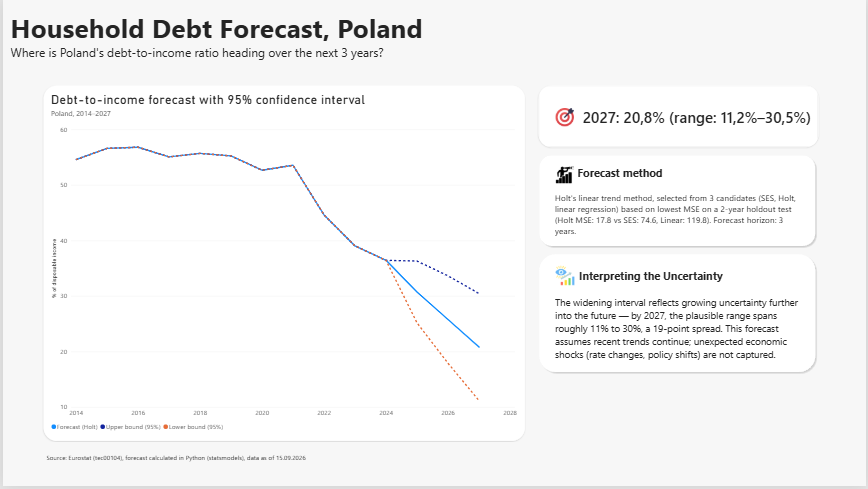

The page's visual inventory and layout, read from the dashboard file:
{"tool":"powerbi","page":{"name":"Forecast","canvas":[1920,1080],"ordinal":3},"visuals":[{"type":"lineChart","title":"Debt-to-income forecast with 95% confidence interval","fields":{"Category":["pl_forecast_ci.year"],"Y":["Sum(pl_forecast_ci.value)","Sum(pl_forecast_ci.upper)","Sum(pl_forecast_ci.lower)"]},"box":[88.3,190,1070,790],"z":0},{"type":"textbox","box":[17,20,1335,117],"z":1000},{"type":"shape","box":[1187.2,492.2,623.3,211.7],"z":2000},{"type":"textbox","box":[1278.1,518.8,442.5,61.2],"z":3000},{"type":"image","box":[1225.6,518.8,43,43],"z":4000},{"type":"textbox","box":[1225.6,580.6,550,110],"z":5000},{"type":"cardVisual","fields":{"Data":["pl_forecast_ci.Forecast_2027_Display"]},"box":[1190,190,622.5,285],"z":6000},{"type":"textbox","box":[95,1007.5,590,27.5],"z":7000},{"type":"shape","box":[1188.3,715,623.3,271.7],"z":8000},{"type":"image","box":[1226.3,743.4,44,44],"z":9000},{"type":"textbox","box":[1280,751.1,532.2,57.8],"z":10000},{"type":"textbox","box":[1226.7,808.9,550,163.3],"z":11000},{"type":"image","box":[1227.8,311.1,43.1,40.8],"z":12000}]}

Visuals, with their boxes in screenshot pixels (x1, y1, x2, y2), scaled from the page's 1920x1080 canvas onto the 868x489 screenshot:
"Debt-to-income forecast with 95% confidence interval" lineChart: [40, 86, 524, 444]
textbox: [8, 9, 611, 62]
shape: [537, 223, 818, 319]
textbox: [578, 235, 778, 263]
image: [554, 235, 574, 254]
textbox: [554, 263, 803, 313]
cardVisual - pl_forecast_ci.Forecast_2027_Display: [538, 86, 819, 215]
textbox: [43, 456, 310, 469]
shape: [537, 324, 819, 447]
image: [554, 337, 574, 357]
textbox: [579, 340, 819, 366]
textbox: [555, 366, 803, 440]
image: [555, 141, 575, 159]
